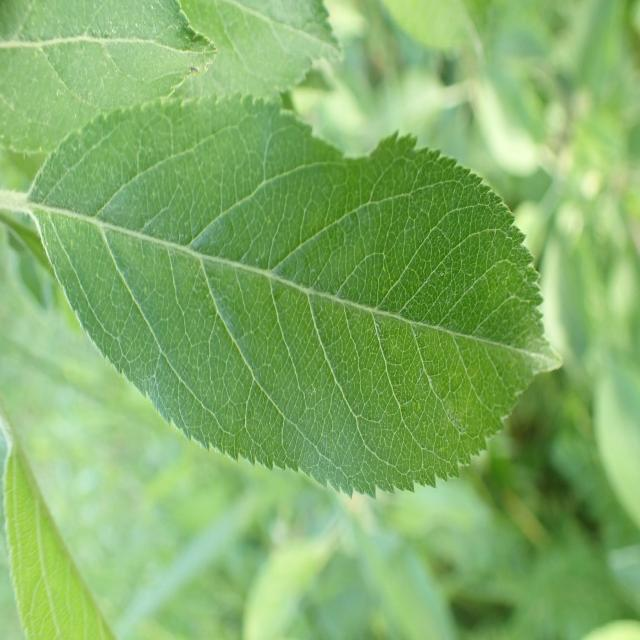healthy: (28, 95, 565, 499), (0, 0, 220, 155), (175, 0, 345, 104)
